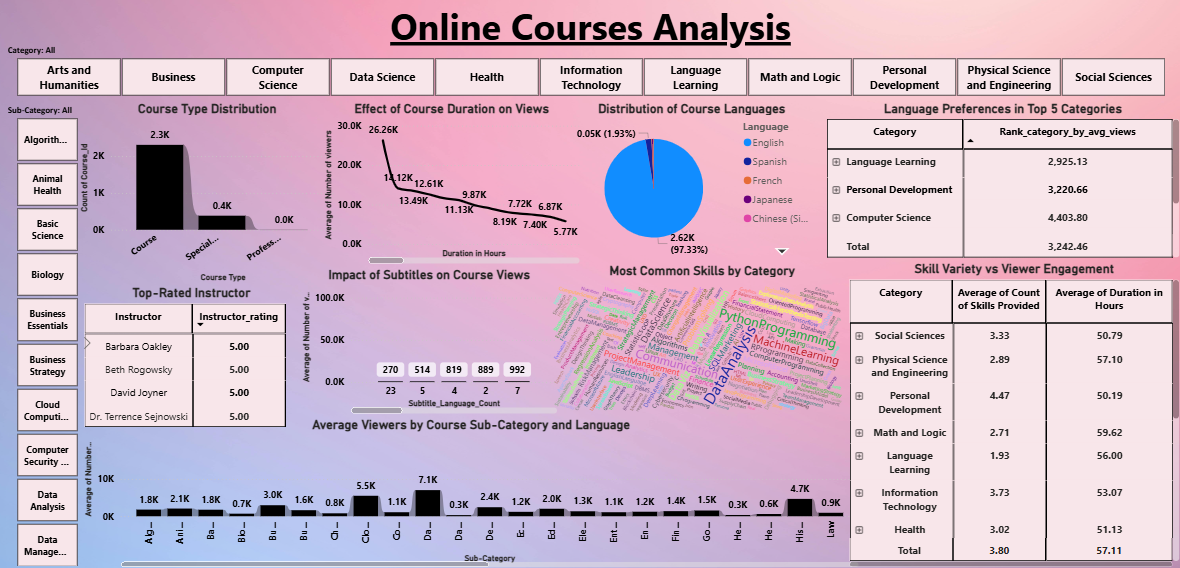

What the dashboard file says about the page in this screenshot:
{"tool":"powerbi","page":{"name":"Page 1","canvas":[1580,768],"ordinal":0},"visuals":[{"type":"textbox","box":[0,0,1580,96],"z":0},{"type":"slicer","fields":{"Values":["Online_Courses.Category"]},"box":[0,58,1580,80],"z":1000},{"type":"columnChart","title":"Course Type Distribution","fields":{"Category":["Online_Courses.Course Type"],"Y":["Online_Courses.Course_Id"]},"box":[104,138,350,246],"z":2000},{"type":"columnChart","title":"Average Viewers by Course Sub-Category and Language","fields":{"Category":["Online_Courses.Sub-Category","Online_Courses.Language"],"Y":["Online_Courses.Number of viewers"]},"box":[110,560,1042,206],"z":3000},{"type":"WordCloud1447959067750","title":"Most Common Skills by Category","fields":{"Category":["Online_Courses.Skills"]},"box":[726,354,426,222],"z":4000},{"type":"pieChart","title":"Distribution of Course Languages","fields":{"Category":["Online_Courses.Language"],"Y":["Online_Courses.Course_Id"]},"box":[750,138,350,214],"z":5000},{"type":"pivotTable","title":"Language Preferences in Top 5 Categories","fields":{"Rows":["Online_Courses.Category","Online_Courses.Language"],"Values":["Online_Courses.Rank_category_by_avg_views"]},"box":[1100,138,480,214],"z":6000},{"type":"lineClusteredColumnComboChart","title":"Impact of Subtitles on Course Views","fields":{"Category":["Online_Courses.Subtitle_Language_Count"],"Y":["Online_Courses.Number of viewers"]},"box":[400,360,350,200],"z":7000},{"type":"pivotTable","title":"Top-Rated Instructor","fields":{"Rows":["Teachers.Instructor"],"Values":["Teachers.Instructor_rating"]},"box":[110,384,296,200],"z":8000},{"type":"slicer","fields":{"Values":["Teachers.Sub-Category"]},"box":[0,138,130,628],"z":9000},{"type":"lineChart","title":"Effect of Course Duration on Views","fields":{"Category":["Online_Courses.Duration in Hours"],"Y":["Online_Courses.Number of viewers"]},"box":[430,138,350,222],"z":10000},{"type":"pivotTable","title":"Skill Variety vs Viewer Engagement","fields":{"Rows":["Online_Courses.Category","Online_Courses.Sub-Category"],"Values":["Online_Courses.Count of Skills Provided","Online_Courses.Duration in Hours"]},"box":[1130,352,450,414],"z":11000}]}

Visuals, with their boxes in screenshot pixels (x1, y1, x2, y2), scaled from the page's 1580x768 canvas onto the 1180x568 screenshot:
textbox: <region>0, 0, 1179, 71</region>
slicer - Online_Courses.Category: <region>0, 43, 1179, 102</region>
"Course Type Distribution" columnChart: <region>78, 102, 339, 284</region>
"Average Viewers by Course Sub-Category and Language" columnChart: <region>82, 414, 860, 567</region>
"Most Common Skills by Category" WordCloud1447959067750: <region>542, 262, 860, 426</region>
"Distribution of Course Languages" pieChart: <region>560, 102, 822, 260</region>
"Language Preferences in Top 5 Categories" pivotTable: <region>822, 102, 1179, 260</region>
"Impact of Subtitles on Course Views" lineClusteredColumnComboChart: <region>299, 266, 560, 414</region>
"Top-Rated Instructor" pivotTable: <region>82, 284, 303, 432</region>
slicer - Teachers.Sub-Category: <region>0, 102, 97, 567</region>
"Effect of Course Duration on Views" lineChart: <region>321, 102, 583, 266</region>
"Skill Variety vs Viewer Engagement" pivotTable: <region>844, 260, 1179, 567</region>
